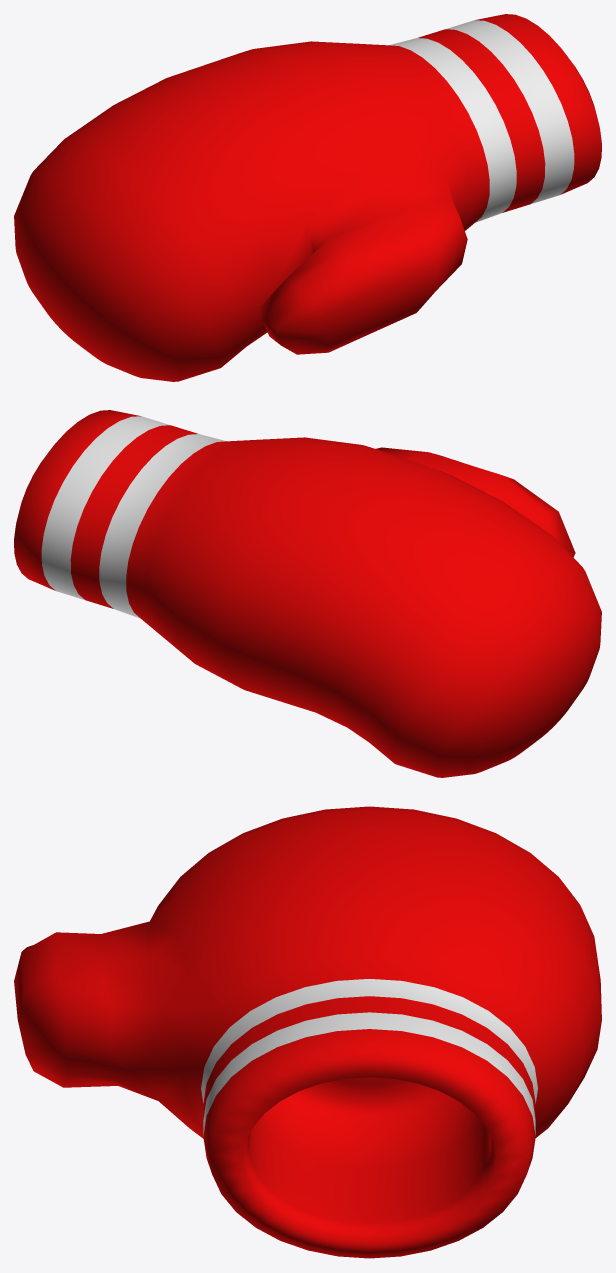
The model's file is guante.fbx.
3 views of the same model, one above another, from view 1: azimuth 30°, elevation 25°; view 2: azimuth 150°, elevation 25°; view 3: azimuth 270°, elevation 25° (orthographic). The views are drawn at different scales.
Visible parts, largest first — view 1: Personaje.001; view 2: Personaje.001; view 3: Personaje.001.
Boxes of the visible parts, x1,y1,x2,y2 form: Personaje.001: [14, 14, 601, 381]; Personaje.001: [14, 410, 601, 777]; Personaje.001: [14, 806, 601, 1258].
Bounding box in the file's own units: 225 × 110 × 167.
